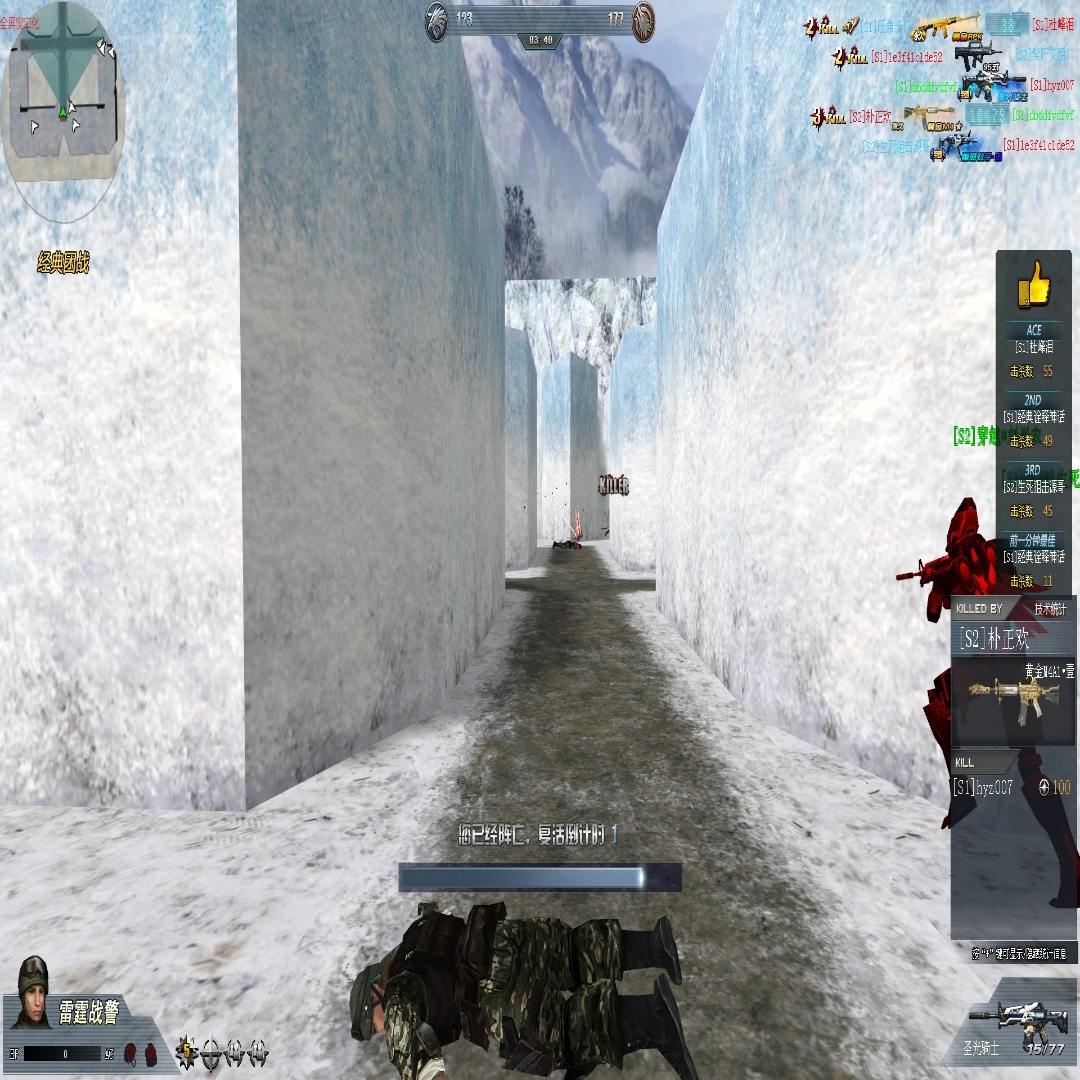t: (921, 498, 994, 623)
